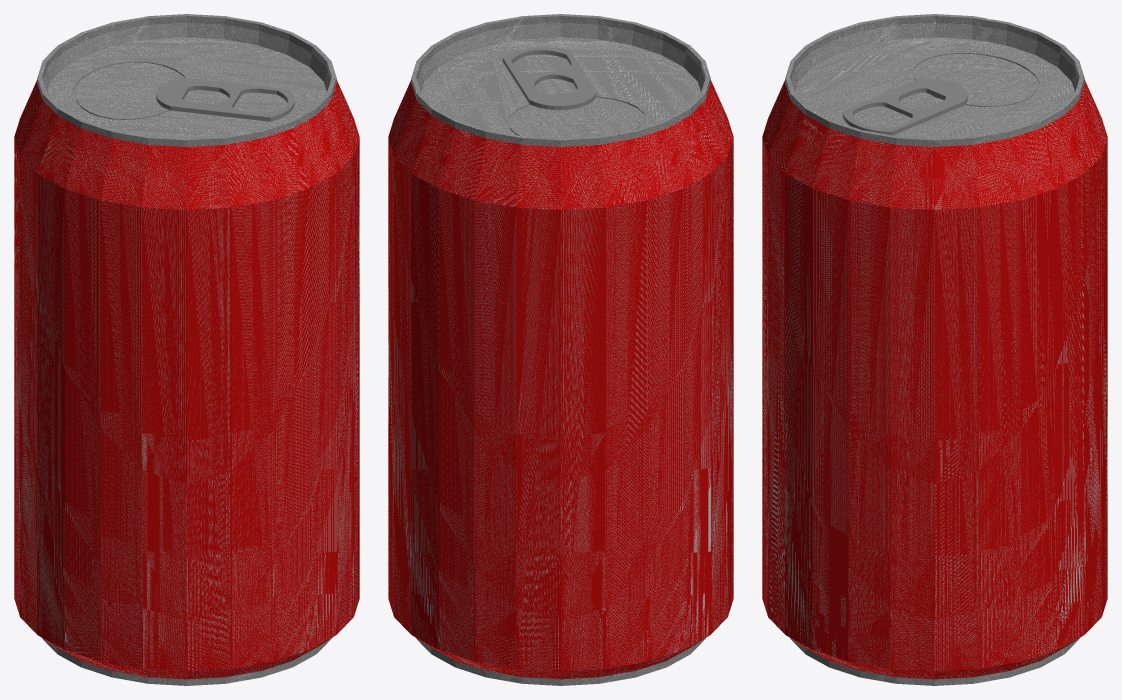
The picture shows the model from 3 angles, left to right: view 1: azimuth 30°, elevation 25°; view 2: azimuth 150°, elevation 25°; view 3: azimuth 270°, elevation 25°; orthographic projection.
Parts seen in each view (by area): view 1: mesh2_mesh2-geometry, mesh1_mesh1-geometry; view 2: mesh2_mesh2-geometry, mesh1_mesh1-geometry; view 3: mesh2_mesh2-geometry, mesh1_mesh1-geometry.
Boxes of the visible parts, left/top/right/bottom form: mesh2_mesh2-geometry: left=14, top=14, right=359, bottom=685; mesh1_mesh1-geometry: left=156, top=78, right=294, bottom=121; mesh2_mesh2-geometry: left=388, top=14, right=733, bottom=685; mesh1_mesh1-geometry: left=502, top=47, right=596, bottom=110; mesh2_mesh2-geometry: left=762, top=14, right=1107, bottom=685; mesh1_mesh1-geometry: left=842, top=79, right=967, bottom=135.
Bounding box in the file's own units: 0.4456 × 0.7765 × 0.4456.
